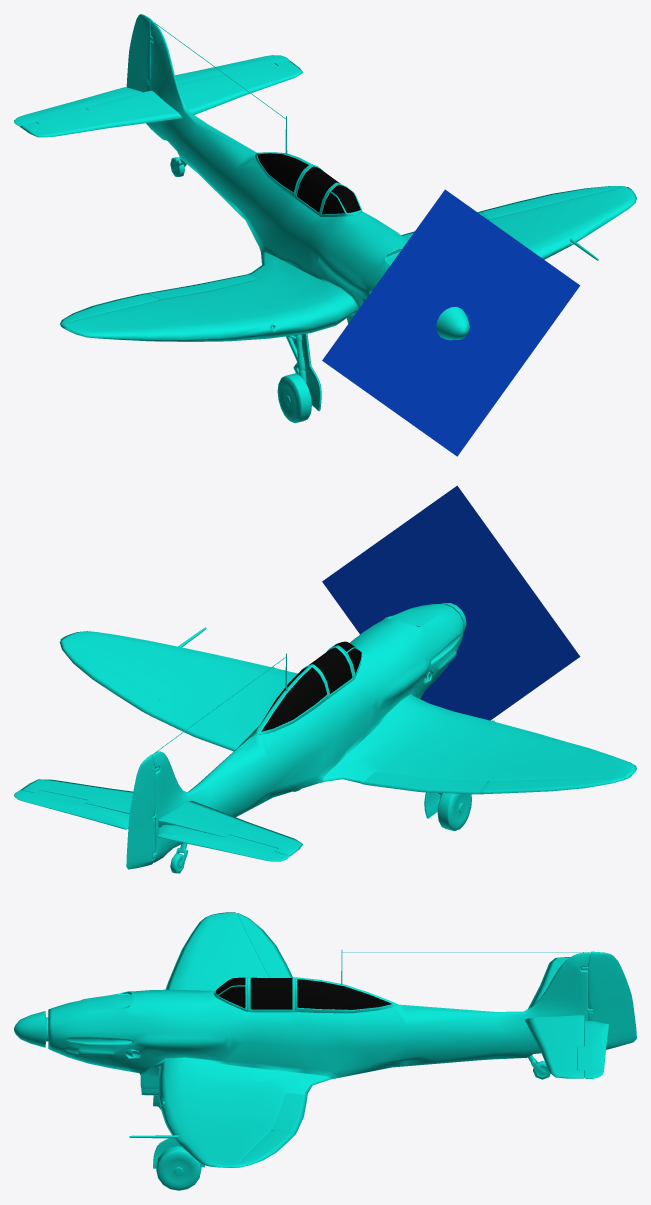
3 views of the same model, one above another, from view 1: azimuth 30°, elevation 25°; view 2: azimuth 150°, elevation 25°; view 3: azimuth 270°, elevation 25° (orthographic). The views are drawn at different scales.
Parts seen in each view (by area): view 1: fan_blur, wing_r, fuse_f_r, fuse_b_r, wing_l, elevator_r, elevator_l, glass, landing_gear, tail, elevator_r_b, aileron_l (+5 smaller); view 2: fan_blur, wing_r, fuse_f_r, wing_l, fuse_b_r, glass, elevator_r, tail, elevator_r_b, aileron_l, elevator_l, elevator_l_b (+6 smaller); view 3: fuse_f_l, wing_l, fuse_b_l, wing_r, glass, tail, elevator_l, landing_gear, bodywork1, elevator_l_b, aileron_r, flap_l (+4 smaller).
Boxes of the visible parts, x1=… form: fan_blur: x1=322, y1=189, x2=580, y2=456; wing_r: x1=60, y1=252, x2=356, y2=341; fuse_f_r: x1=231, y1=151, x2=399, y2=323; fuse_b_r: x1=147, y1=20, x2=251, y2=213; wing_l: x1=488, y1=186, x2=636, y2=260; elevator_r: x1=20, y1=90, x2=182, y2=137; elevator_l: x1=177, y1=60, x2=302, y2=114; glass: x1=257, y1=153, x2=360, y2=214; landing_gear: x1=277, y1=333, x2=321, y2=423; tail: x1=126, y1=14, x2=153, y2=129; elevator_r_b: x1=14, y1=87, x2=142, y2=126; aileron_l: x1=480, y1=186, x2=625, y2=219; fan_blur: x1=322, y1=485, x2=580, y2=720; wing_r: x1=322, y1=695, x2=636, y2=783; fuse_f_r: x1=252, y1=604, x2=463, y2=801; wing_l: x1=60, y1=627, x2=297, y2=738; fuse_b_r: x1=152, y1=739, x2=272, y2=862; glass: x1=260, y1=641, x2=361, y2=731; elevator_r: x1=158, y1=800, x2=303, y2=856; tail: x1=126, y1=755, x2=159, y2=869; elevator_r_b: x1=157, y1=825, x2=289, y2=861; aileron_l: x1=59, y1=641, x2=159, y2=711; elevator_l: x1=20, y1=779, x2=133, y2=814; elevator_l_b: x1=14, y1=790, x2=129, y2=829; fuse_f_l: x1=48, y1=994, x2=405, y2=1095; wing_l: x1=129, y1=1058, x2=331, y2=1167; fuse_b_l: x1=405, y1=952, x2=593, y2=1066; wing_r: x1=165, y1=912, x2=268, y2=993; glass: x1=216, y1=977, x2=391, y2=1009; tail: x1=581, y1=951, x2=636, y2=1049; elevator_l: x1=524, y1=1015, x2=584, y2=1078; landing_gear: x1=153, y1=1095, x2=204, y2=1190; bodywork1: x1=126, y1=950, x2=583, y2=1056; elevator_l_b: x1=577, y1=1021, x2=608, y2=1078; aileron_r: x1=237, y1=913, x2=292, y2=977; flap_l: x1=272, y1=1092, x2=307, y2=1134.
Bounding box in the file's own units: 896 × 407 × 922.
